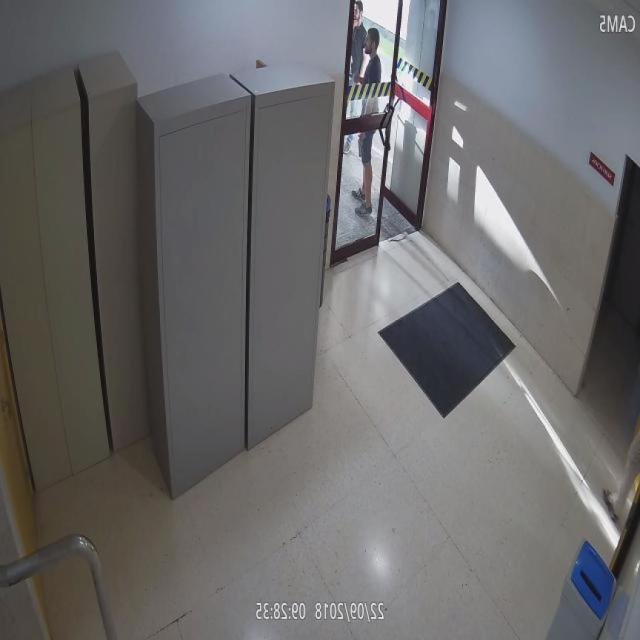pistol: (356, 130, 366, 158)
